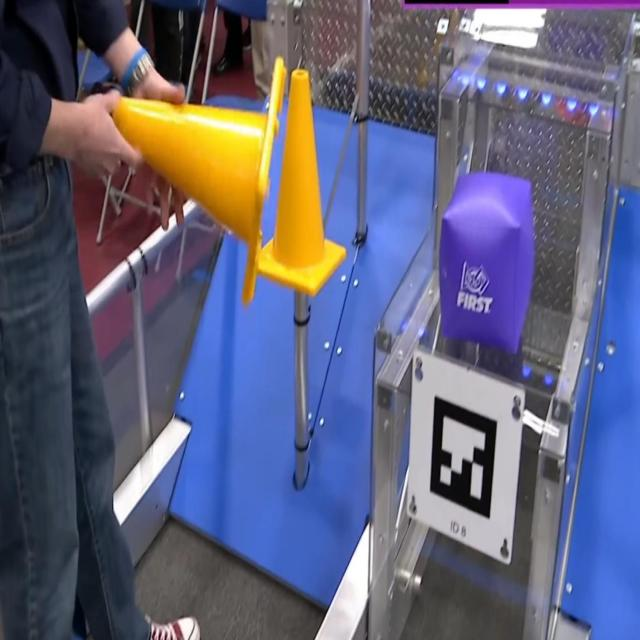frc_cone: (111, 55, 284, 314), (252, 70, 349, 299)
frc_cube: (441, 173, 535, 352)
